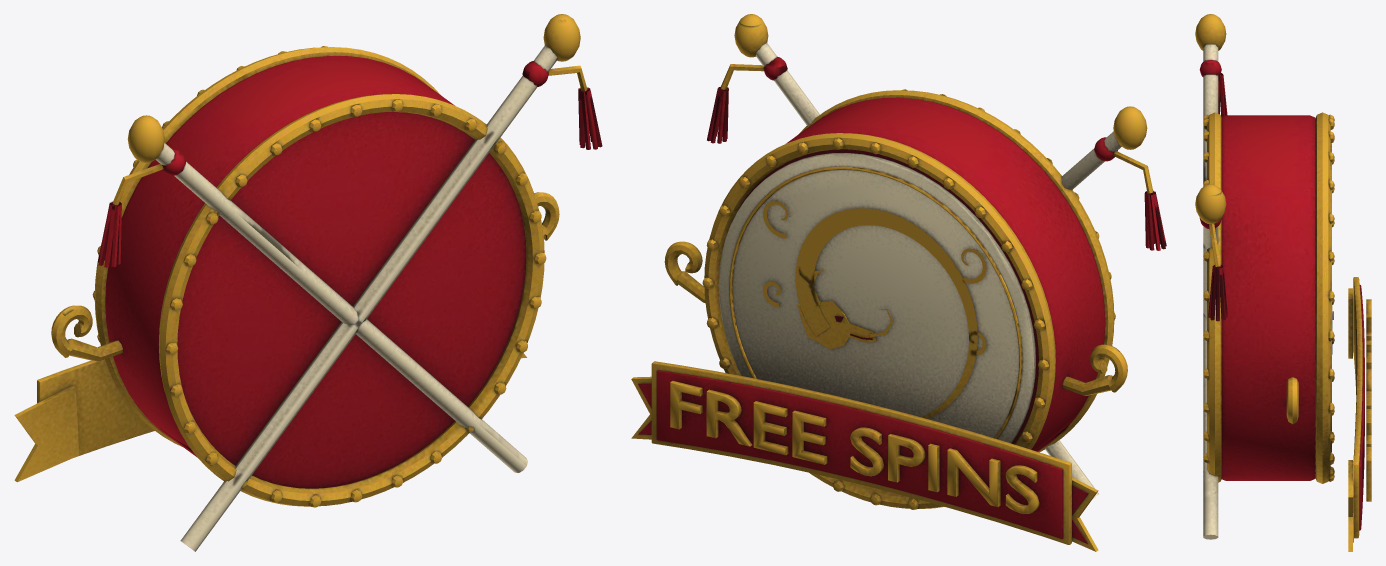
3 renders of one model, left to right at view 1: azimuth 30°, elevation 25°; view 2: azimuth 150°, elevation 25°; view 3: azimuth 270°, elevation 25°, orthographic. The views are drawn at different scales.
Visible parts, largest first — view 1: Crimson_lacquer, Festival_gold, Cream_hide; view 2: Cream_hide, Festival_gold, Crimson_lacquer; view 3: Crimson_lacquer, Festival_gold, Cream_hide.
Part boxes in pixels (<box>): Crimson_lacquer: <box>98,56,602,488</box>; Festival_gold: <box>14,14,587,507</box>; Cream_hide: <box>155,45,557,551</box>; Cream_hide: <box>718,42,1121,498</box>; Festival_gold: <box>631,14,1153,551</box>; Crimson_lacquer: <box>638,57,1166,543</box>; Crimson_lacquer: <box>1199,60,1364,542</box>; Festival_gold: <box>1195,14,1371,551</box>; Cream_hide: <box>1203,44,1218,539</box>.
Size of the model in its own units: 2.71 by 2.26 by 0.9665.
Materials: 4 (4 with a texture image).
